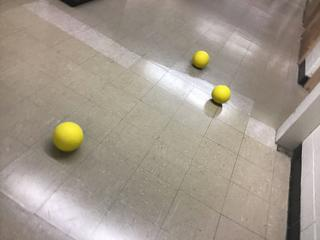power_cell: (51, 121, 82, 153), (209, 82, 235, 106), (194, 50, 210, 69)
